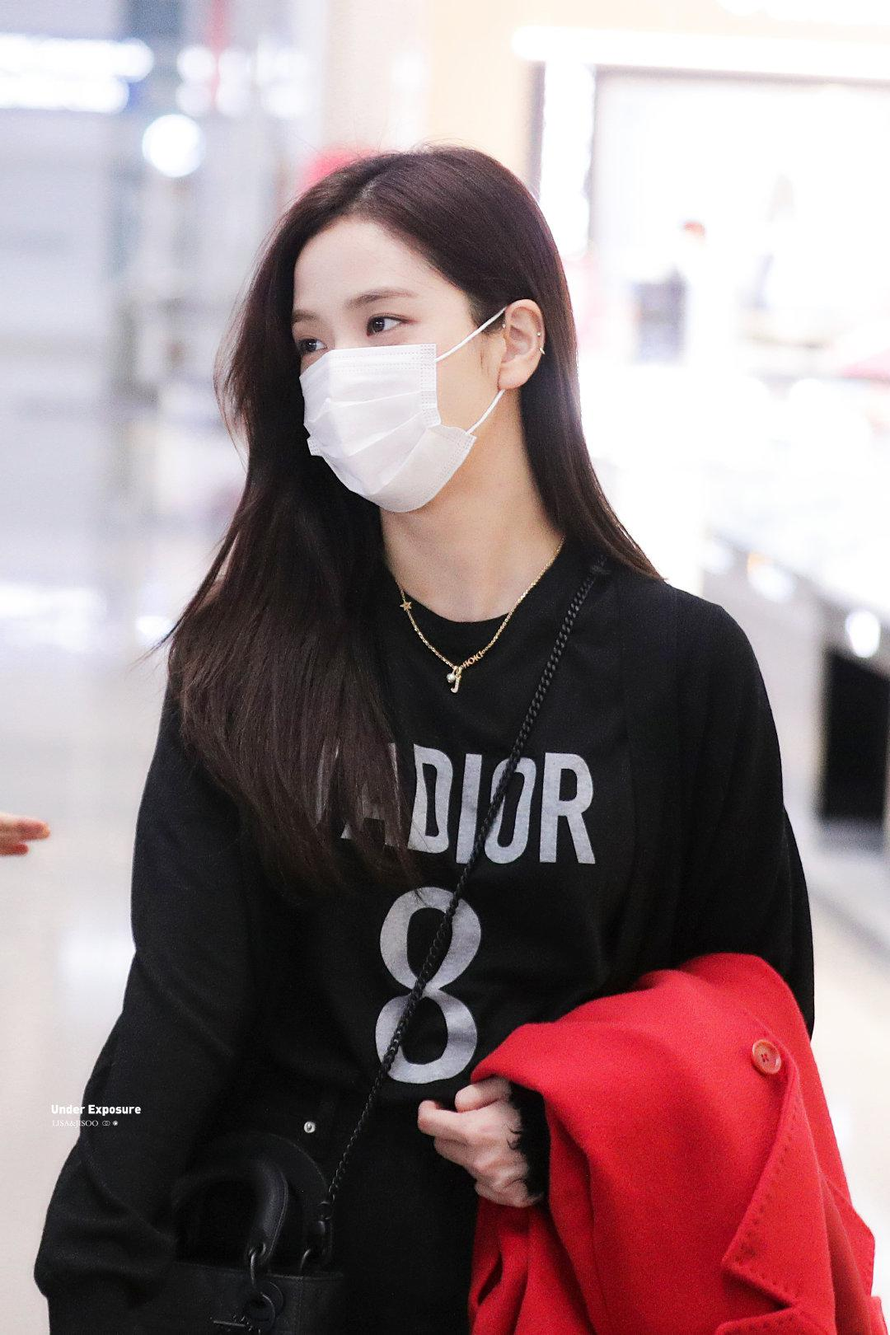OK: (292, 255, 476, 514)
